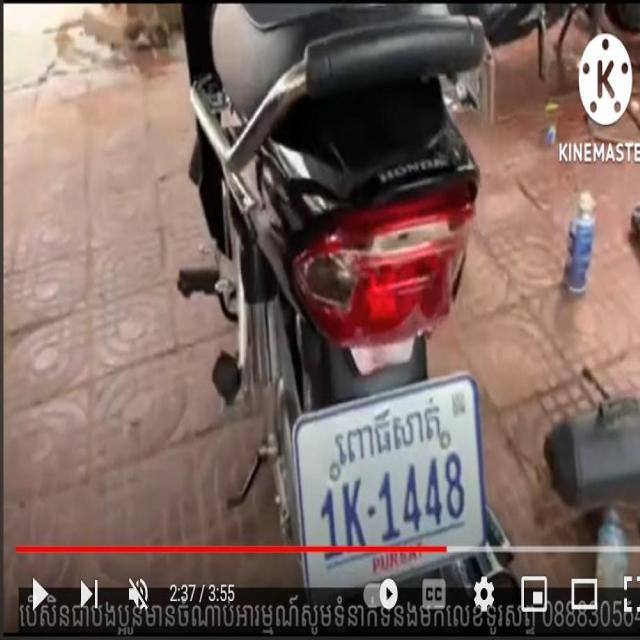Pursat: (335, 395, 443, 470)
